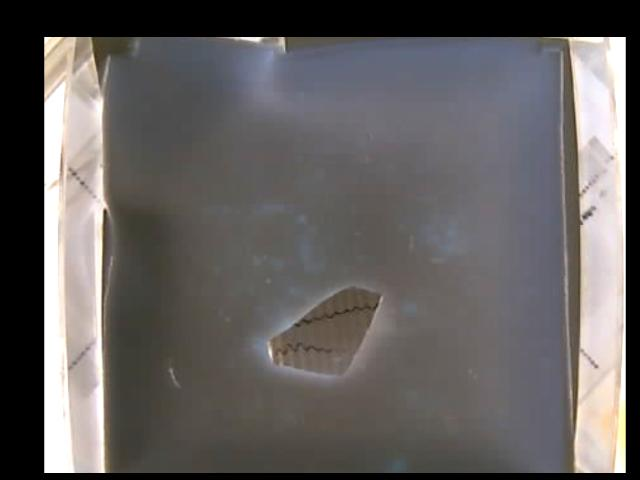China: (267, 284, 380, 378)
